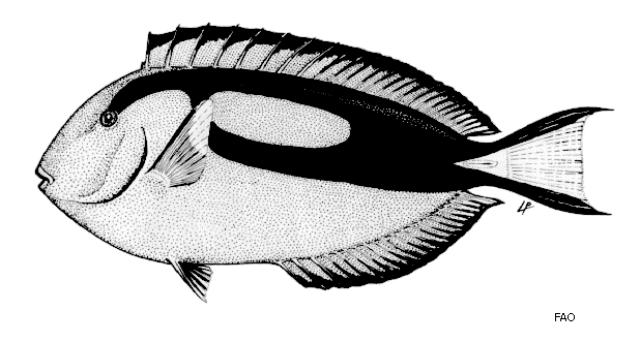Mulut: (20, 146, 70, 220)
Sirip Anal: (272, 188, 510, 294)
Sirip Dada: (132, 90, 220, 202)
Sirip Ekor: (496, 100, 630, 223)
Sirip Perut: (150, 246, 226, 310)
Sirip Punggung: (136, 17, 504, 143)
